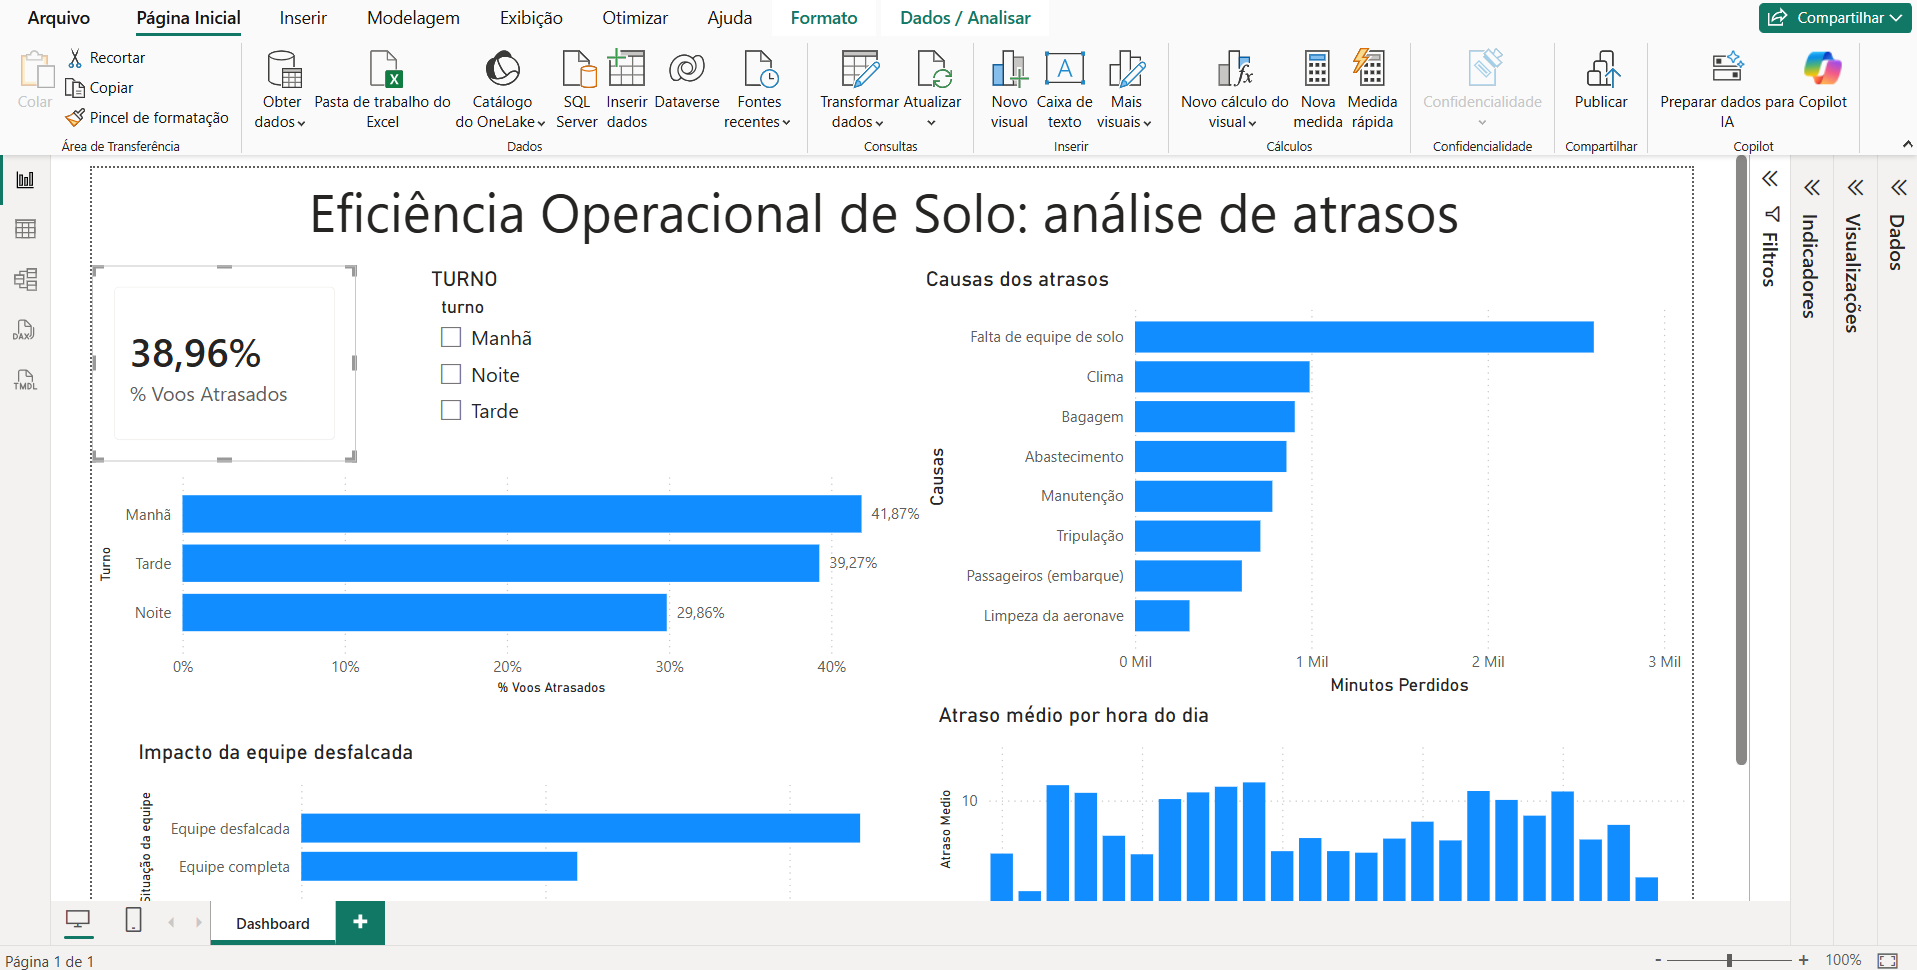

This screenshot's page, from the dashboard's own definition file:
{"tool":"powerbi","page":{"name":"Dashboard","canvas":[1280,720],"ordinal":0},"visuals":[{"type":"clusteredBarChart","title":"Atraso por turno","fields":{"Category":["voos.turno"],"Y":["operacao_solo.% Voos Atrasados"]},"box":[0,214,679,213],"z":0},{"type":"cardVisual","fields":{"Data":["operacao_solo.% Voos Atrasados"]},"box":[0,78,211,157],"z":1000},{"type":"clusteredBarChart","title":"Causas dos atrasos","fields":{"Category":["causas_atraso.descricao"],"Y":["operacao_solo.Minutos Perdidos"]},"box":[662,78,614,349],"z":2000},{"type":"clusteredBarChart","title":"Impacto da equipe desfalcada","fields":{"Category":["escala_turno.Situacao Equipe"],"Y":["operacao_solo.% Voos Atrasados"]},"box":[31.6,456.9,640.8,181.1],"z":3000},{"type":"columnChart","title":"Atraso médio por hora do dia","fields":{"Category":["voos.Hora"],"Y":["operacao_solo.Atraso Medio"]},"box":[672,427,608,211],"z":4000},{"type":"textbox","box":[0,0,1266.6,78.2],"z":5000},{"type":"textbox","box":[10,664,651,56],"z":6000},{"type":"slicer","title":"TURNO","fields":{"Values":["voos.turno"]},"box":[266,78,317,157],"z":7000},{"type":"textbox","box":[662,664,618,56],"z":8000}]}

Visuals, with their boxes on the page's 1280x720 design canvas (x1, y1, x2, y2). These are canvas units, not pixel positions in the 1917x970 screenshot, which may show the page scaled, cropped or inside an application window:
"Atraso por turno" clusteredBarChart: box(0, 214, 679, 427)
cardVisual - operacao_solo.% Voos Atrasados: box(0, 78, 211, 235)
"Causas dos atrasos" clusteredBarChart: box(662, 78, 1276, 427)
"Impacto da equipe desfalcada" clusteredBarChart: box(32, 457, 672, 638)
"Atraso médio por hora do dia" columnChart: box(672, 427, 1280, 638)
textbox: box(0, 0, 1267, 78)
textbox: box(10, 664, 661, 720)
"TURNO" slicer: box(266, 78, 583, 235)
textbox: box(662, 664, 1280, 720)
